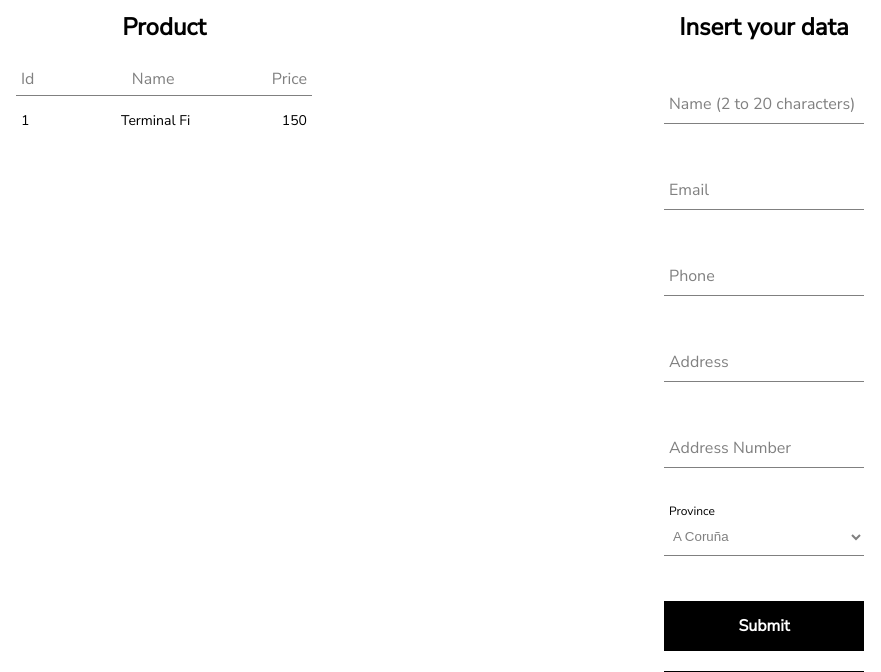
Scenario: user summary in CheckoutPage › should display submitted user info
Type "Víctor" into the field labelled "Name (2 to 20 characters)". click: (764, 106)
box: left=664, top=88, right=864, bottom=124
Type "user@gmail.com" into the field labelled "Email". click: (764, 192)
box: left=664, top=174, right=864, bottom=210
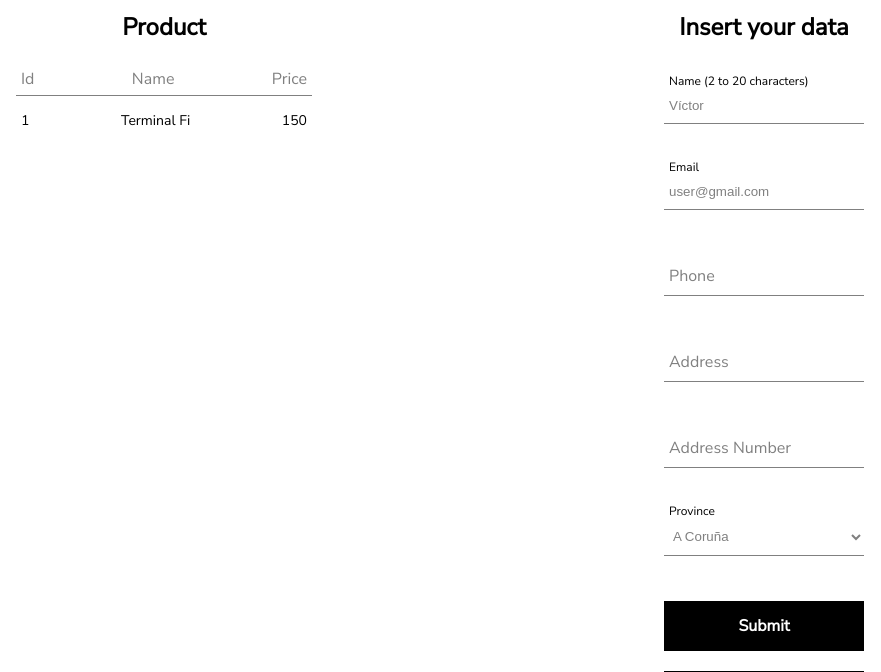
Type "666777888" into the field labelled "Phone". click: (764, 278)
box: left=664, top=260, right=864, bottom=296
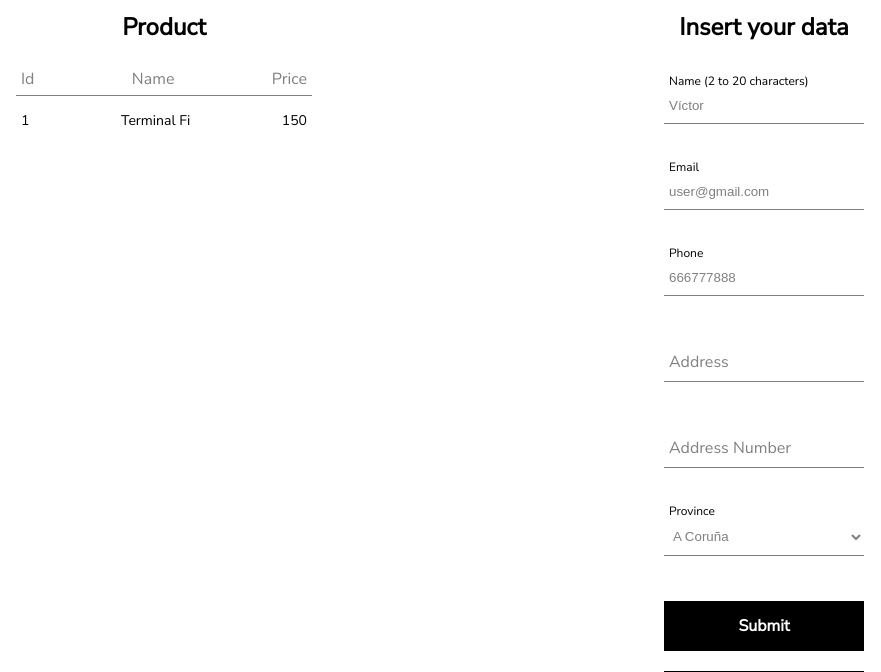
Type "gran Vía" into the field labelled "Address". click: (764, 364)
box: left=664, top=346, right=864, bottom=382
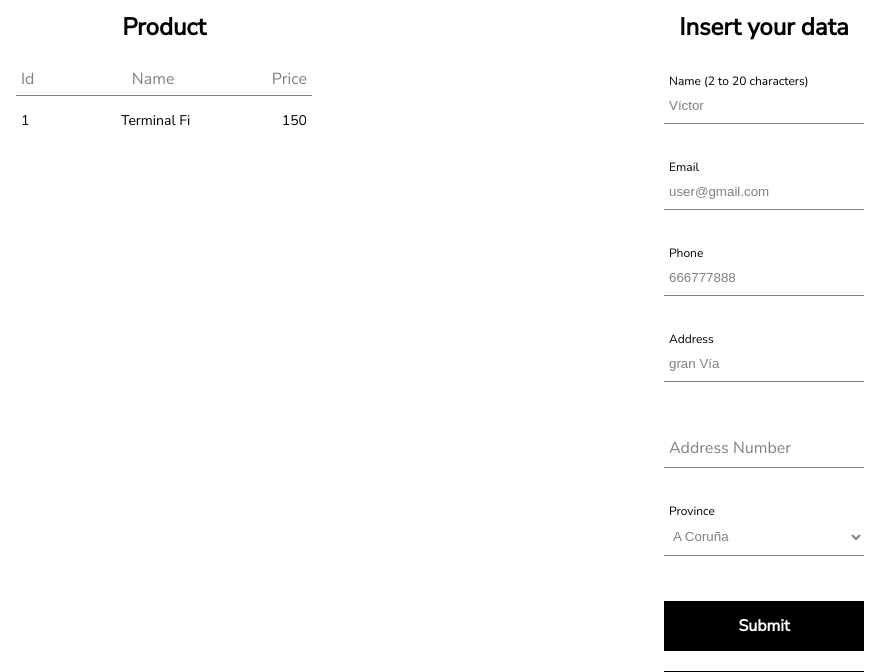
Type "1" into the number field labelled "Address Number". click: (764, 450)
box: left=664, top=432, right=864, bottom=468
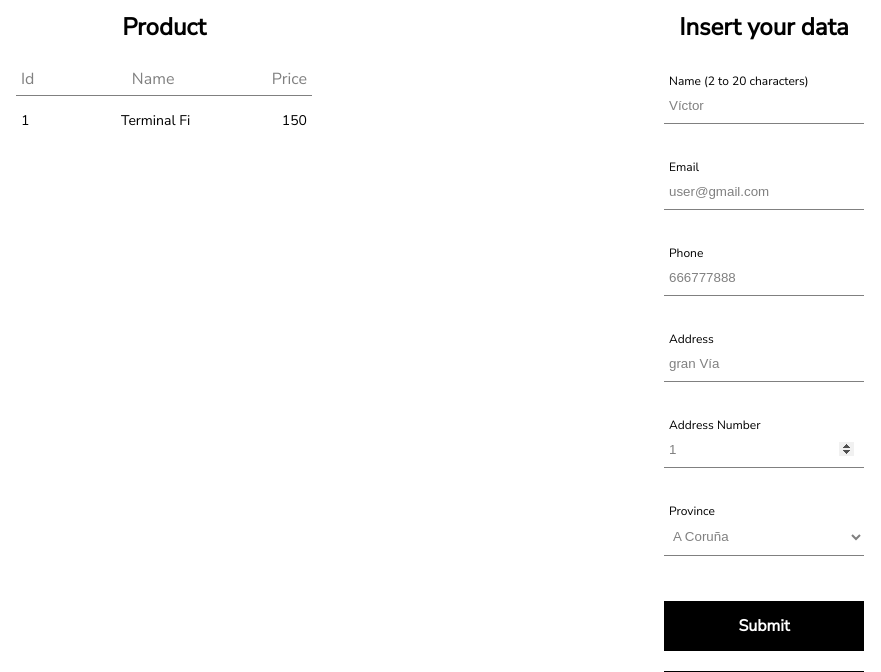
Select "Alicante" in the dropdown labelled "Province". click: (764, 537)
box: left=664, top=518, right=864, bottom=556
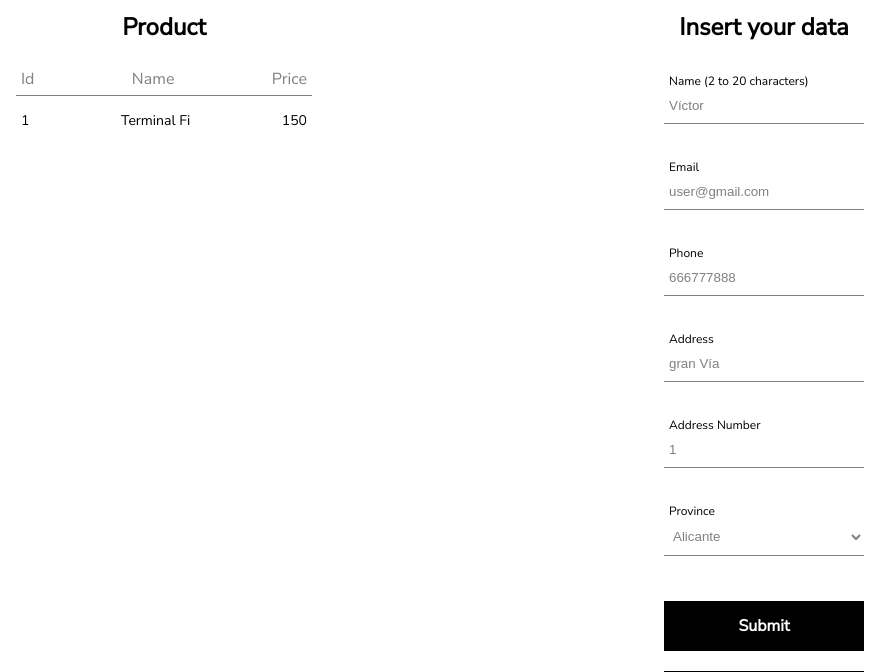
Click the button "Submit". click: (764, 626)
box: left=664, top=601, right=864, bottom=651
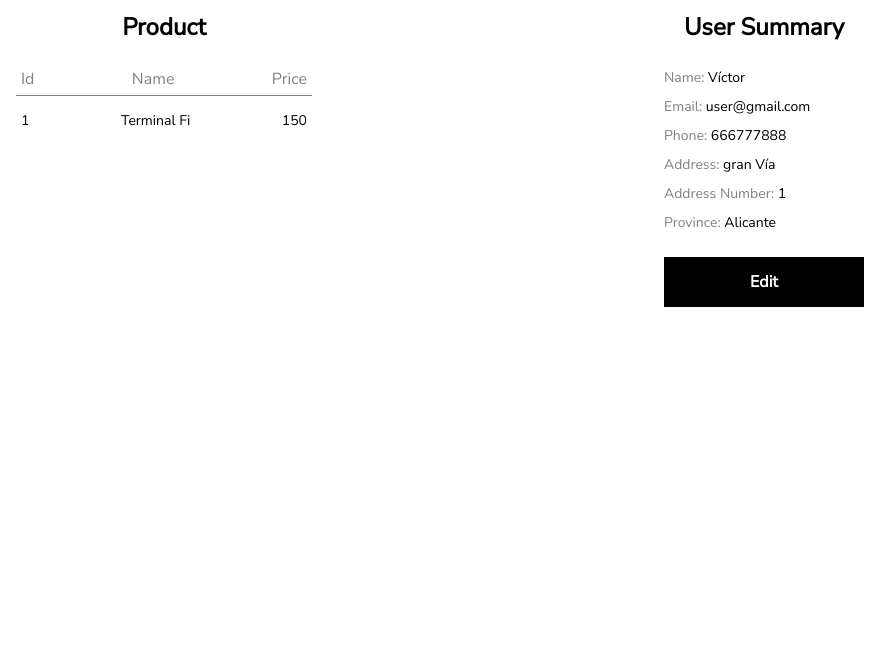
Check: the text "Name: Víctor" is shown, box left=664, top=68, right=745, bottom=87
Check: the text "Email: user@gmail.com" is shown, box left=664, top=97, right=810, bottom=116
Check: the text "Phone: 666777888" is shown, box left=664, top=126, right=786, bottom=145
